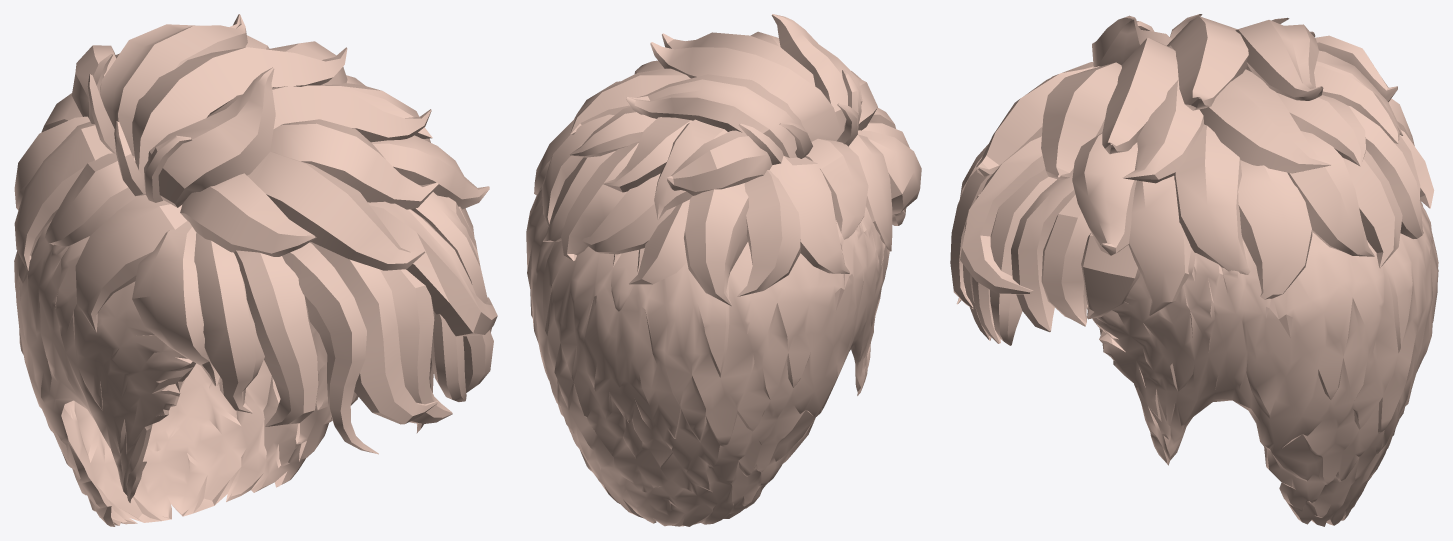
Rendered from Hair_16.fbx.
3 renders of one model, left to right at view 1: azimuth 30°, elevation 25°; view 2: azimuth 150°, elevation 25°; view 3: azimuth 270°, elevation 25°, orthographic. The views are drawn at different scales.
Parts seen in each view (by area): view 1: Hair_16; view 2: Hair_16; view 3: Hair_16.
Part boxes in pixels (x1,y1,x2,y2): Hair_16: (14,14,497,526); Hair_16: (526,14,921,526); Hair_16: (950,14,1438,526).
Bounding box in the file's own units: 2.06 × 2.73 × 2.5.
